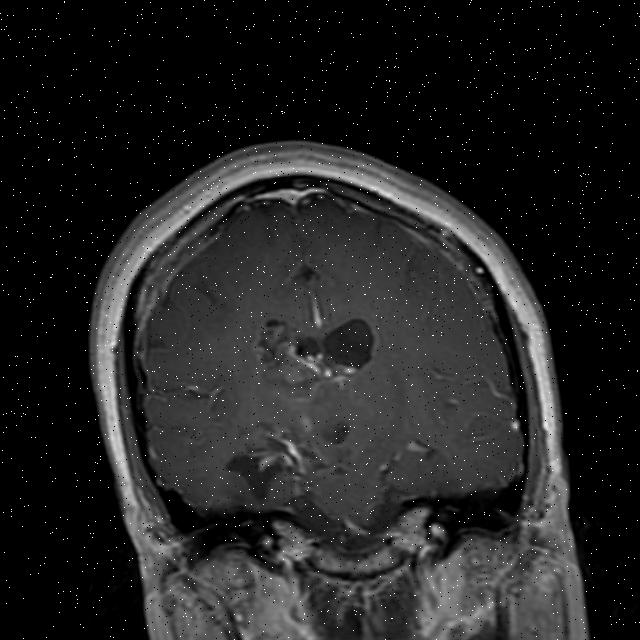Glioma: (246, 308, 360, 400)
Pituitary: (310, 542, 402, 582)
